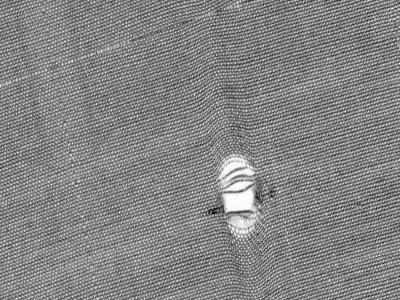hole: (214, 155, 265, 247)
